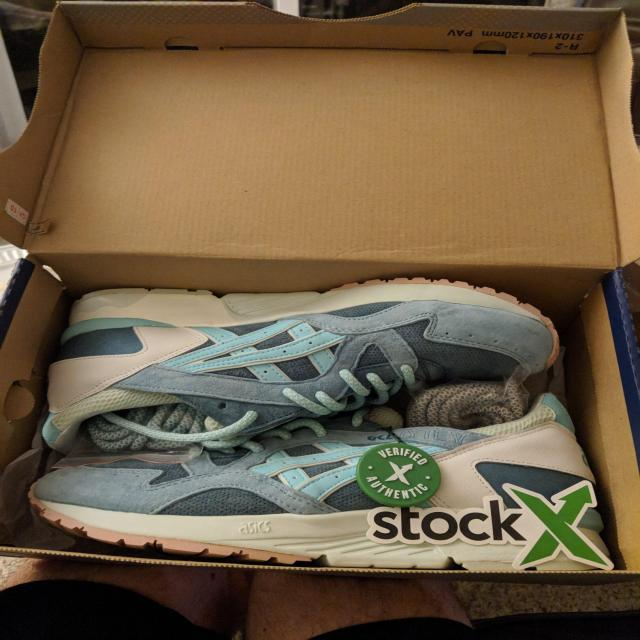shoe: (34, 243, 564, 452), (17, 402, 640, 572)
